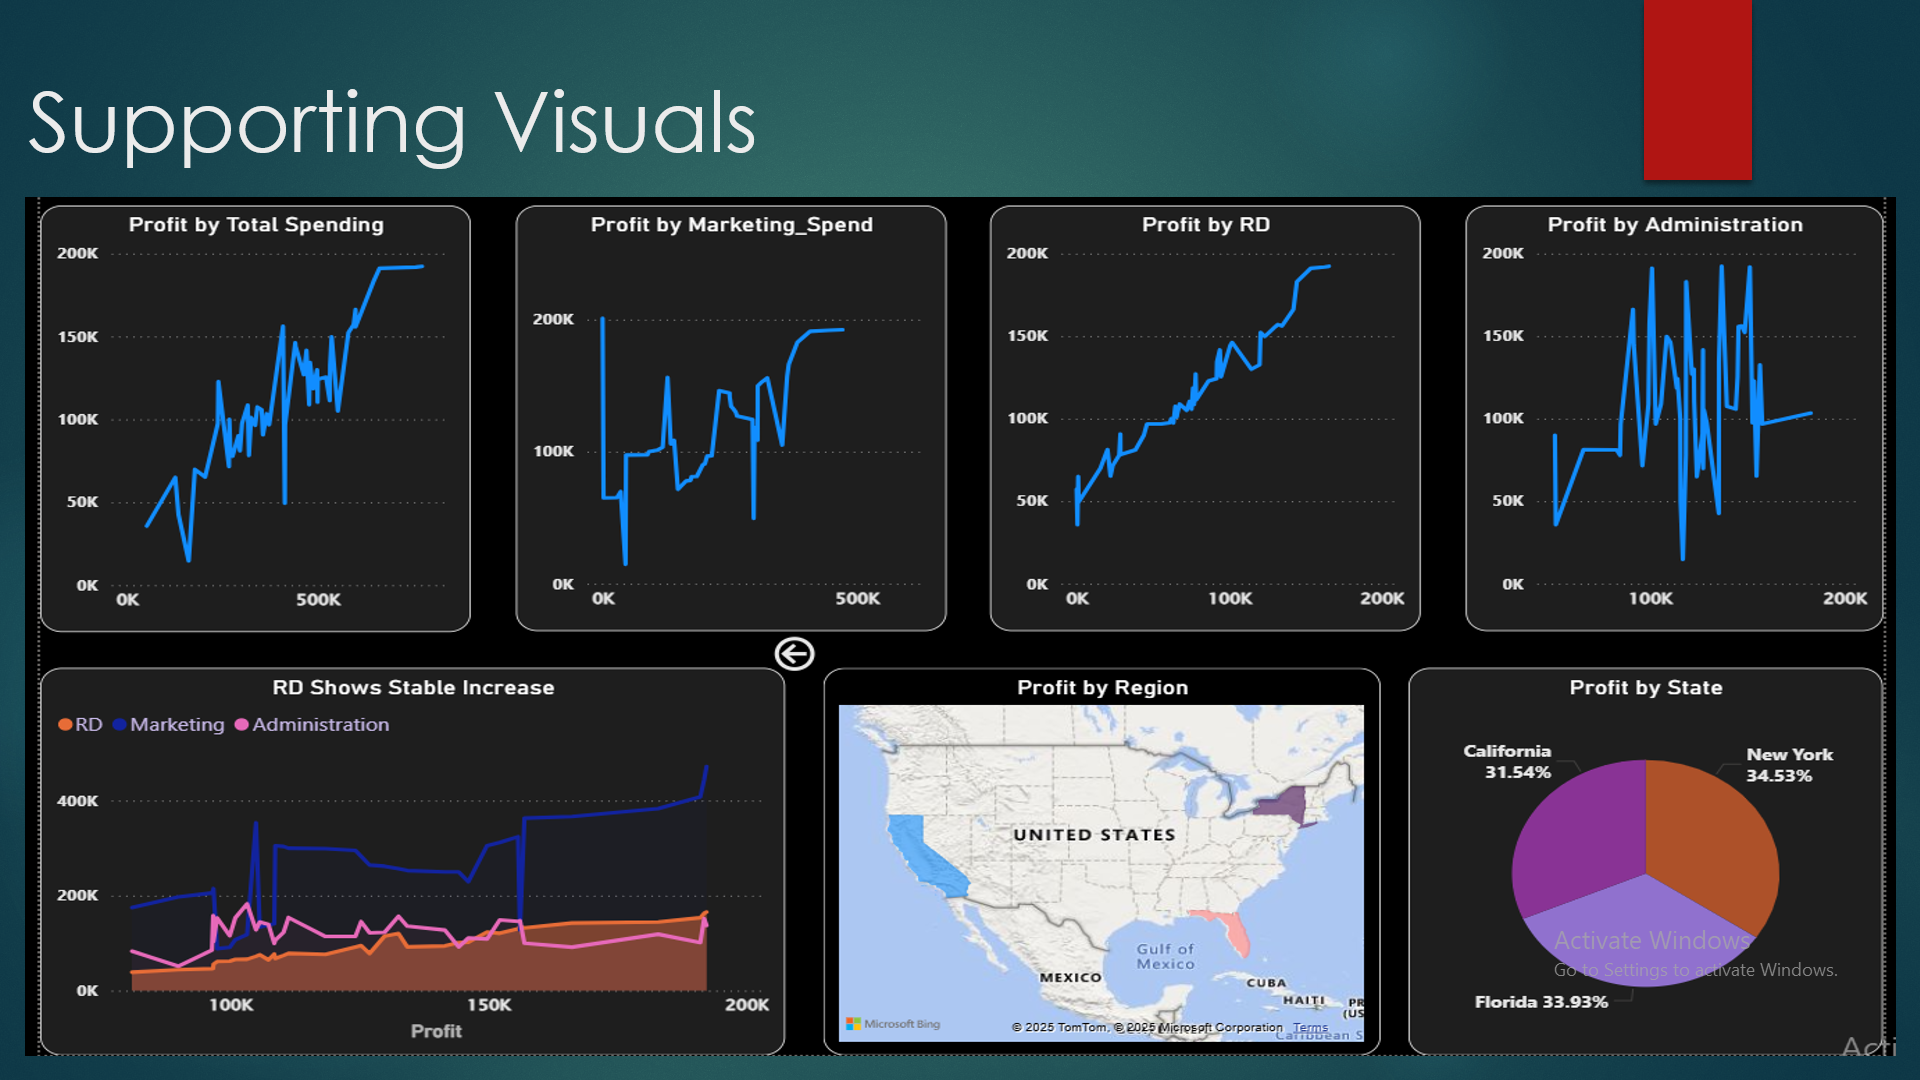

What the dashboard file says about the page in this screenshot:
{"tool":"powerbi","page":{"name":"In-Depth Charts","canvas":[1280,720],"ordinal":4},"visuals":[{"type":"areaChart","title":"RD Shows Stable Increase","fields":{"Category":["Table.Profit"],"Y":["Sum(Table.RD_Spend)","Sum(Table.Marketing_Spend)","Sum(Table.Administration)"]},"box":[0,403,517.6,317.3],"z":0},{"type":"filledMap","title":"Profit by Region","fields":{"Category":["Table.State"],"Series":["Table.Profit"]},"box":[544.1,403,387.3,317.3],"z":1000},{"type":"pieChart","fields":{"Y":["Sum(Table.Profit)"],"Category":["Table.State"]},"box":[950.7,403,329.4,317.3],"z":2000},{"type":"lineChart","title":"Profit by Marketing_Spend","fields":{"Y":["Sum(Table.Profit)"],"Category":["Table.Marketing_Spend"]},"box":[330.2,24.1,299,348.7],"z":3000},{"type":"lineChart","title":"Profit by RD","fields":{"Y":["Sum(Table.Profit)"],"Category":["Table.RD_Spend"]},"box":[660.3,24.1,299,348.7],"z":4000},{"type":"lineChart","title":"Profit by Administration","fields":{"Y":["Sum(Table.Profit)"],"Category":["Table.Administration"]},"box":[990,24.1,290,348.7],"z":5000},{"type":"lineChart","title":"Profit by Total Spending","fields":{"Y":["Sum(Table.Profit)"],"Category":["Table.Total Spending"]},"box":[0,24.1,299,349.9],"z":6000},{"type":"actionButton","box":[505.5,372.8,38.6,37.4],"z":7000}]}

Visuals, with their boxes in screenshot pixels (x1, y1, x2, y2), scaled from the page's 1280x720 canvas onto the 1920x1080 screenshot:
"RD Shows Stable Increase" areaChart: 0, 604, 776, 1079
"Profit by Region" filledMap: 816, 604, 1397, 1079
pieChart - Sum(Table.Profit) x Table.State: 1426, 604, 1919, 1079
"Profit by Marketing_Spend" lineChart: 495, 36, 944, 559
"Profit by RD" lineChart: 990, 36, 1439, 559
"Profit by Administration" lineChart: 1485, 36, 1919, 559
"Profit by Total Spending" lineChart: 0, 36, 448, 561
actionButton: 758, 559, 816, 615
